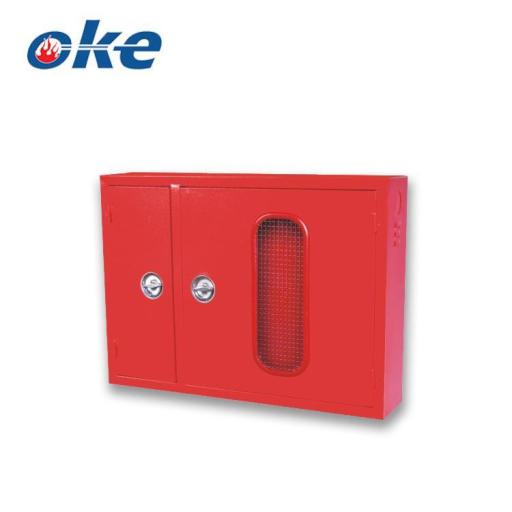fire_hose: (90, 160, 424, 430)
